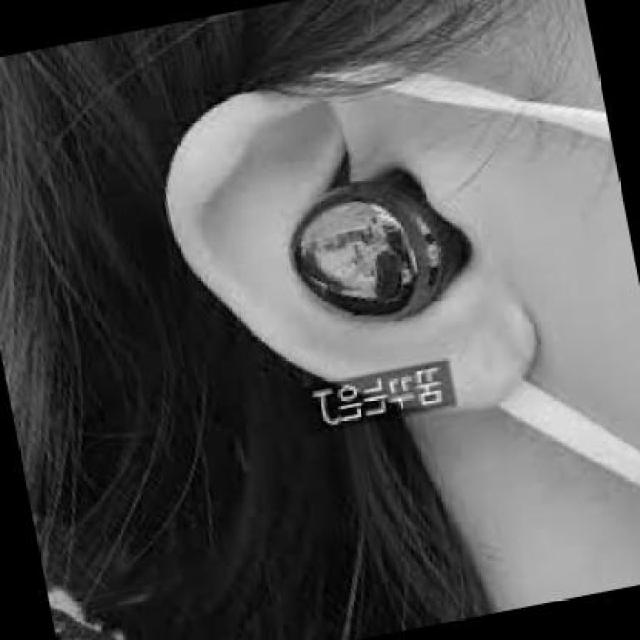earphone: (277, 137, 479, 316)
